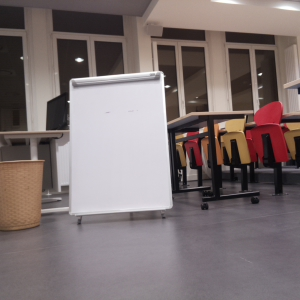big: (68, 76, 173, 215)
medium: (1, 159, 45, 233)
